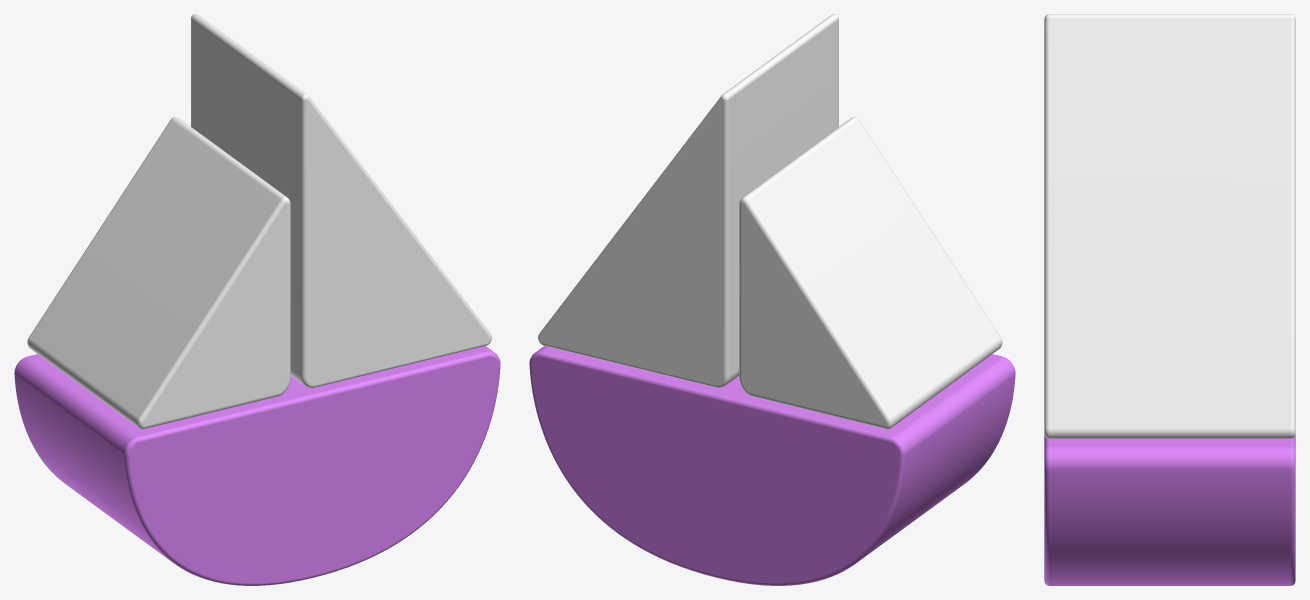
The model's file is ship.gltf.
3 renders of one model, left to right at view 1: azimuth 30°, elevation 25°; view 2: azimuth 150°, elevation 25°; view 3: azimuth 270°, elevation 25°, orthographic. The views are drawn at different scales.
Parts seen in each view (by area): view 1: Shape 5, Shape 7, Shape 6; view 2: Shape 5, Shape 7, Shape 6; view 3: Shape 6, Shape 5.
Boxes of the visible parts, x1,y1,x2,y2 form: Shape 5: (14, 346, 500, 585); Shape 7: (27, 117, 290, 429); Shape 6: (191, 14, 491, 387); Shape 5: (529, 346, 1015, 585); Shape 7: (739, 117, 1002, 429); Shape 6: (538, 14, 838, 387); Shape 6: (1044, 14, 1295, 438); Shape 5: (1044, 434, 1295, 585).
Size of the model in its own units: 3.82 by 4.71 by 2.
